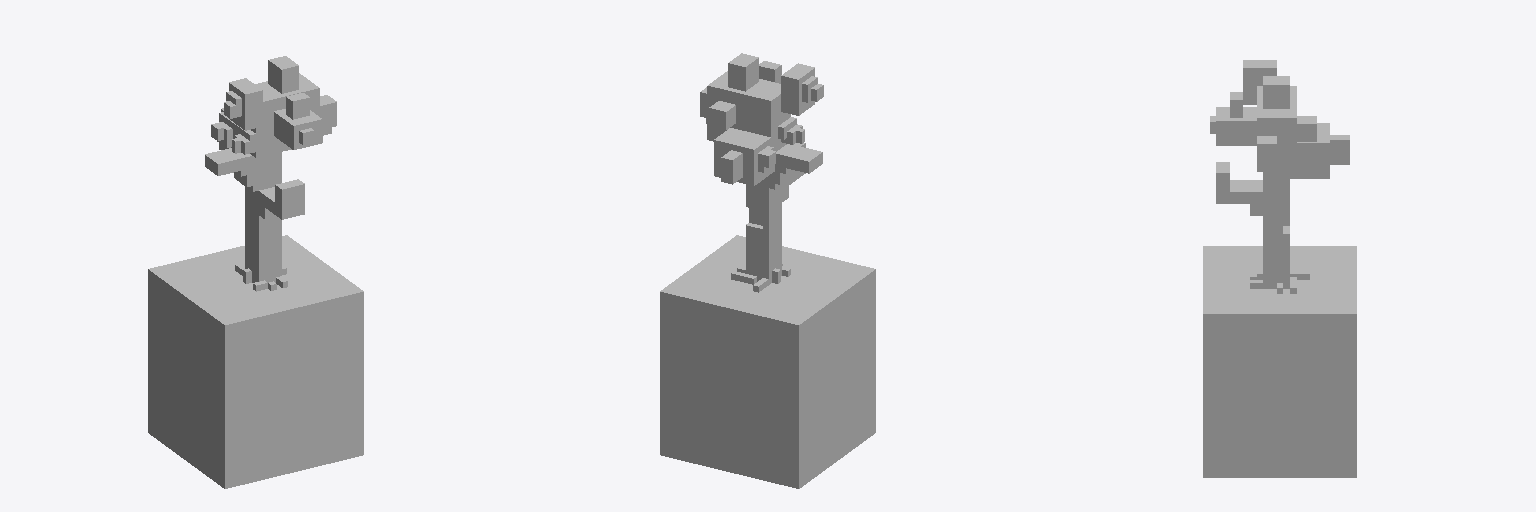
File: tapak3 ijo dgn pohon.obj
3 renders of one model, left to right at view 1: azimuth 30°, elevation 25°; view 2: azimuth 150°, elevation 25°; view 3: azimuth 270°, elevation 25°, orthographic.
Bounding box in the file's own units: 24 × 62 × 23.